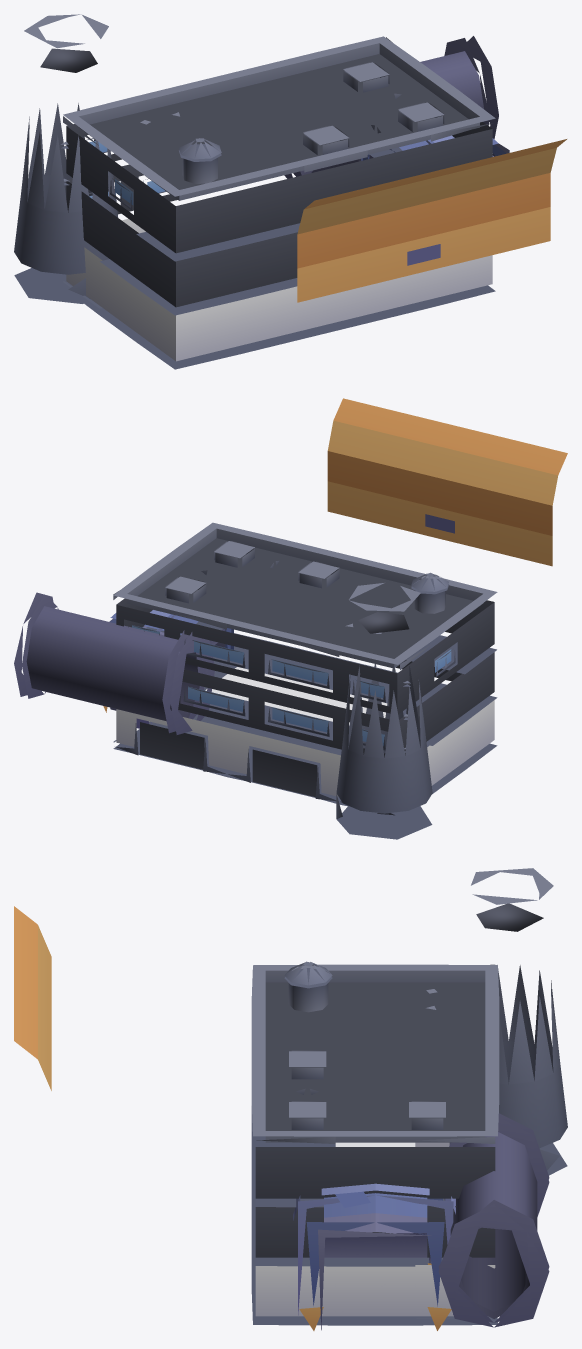
File: SU_HeavyFactory_LOD2.glb
The picture shows the model from 3 angles, top to bottom: view 1: azimuth 30°, elevation 25°; view 2: azimuth 150°, elevation 25°; view 3: azimuth 270°, elevation 25°; orthographic projection. The views are drawn at different scales.
Parts seen in each view (by area): view 1: building-a, door-wide-open, chimney-large, pipe-large-long, machine-fortified; view 2: building-a, door-wide-open, pipe-large-long, chimney-large, machine-fortified; view 3: building-a, pipe-large-long, machine-fortified, chimney-large, door-wide-open.
Part boxes in pixels (x1,y1,x2,y2): building-a: (61, 36, 495, 369); door-wide-open: (297, 139, 566, 302); chimney-large: (14, 14, 118, 303); pipe-large-long: (284, 36, 498, 178); machine-fortified: (358, 135, 509, 161); building-a: (113, 522, 497, 815); door-wide-open: (327, 398, 567, 566); pipe-large-long: (14, 592, 214, 734); chimney-large: (336, 583, 432, 839); machine-fortified: (103, 610, 233, 728); building-a: (251, 961, 499, 1325); pipe-large-long: (438, 1113, 549, 1327); machine-fortified: (293, 1183, 455, 1330); chimney-large: (449, 868, 567, 1175); door-wide-open: (14, 906, 51, 1090).
Size of what is drawn, in the model's own units: 7.6 by 4.08 by 7.49.
5 materials, 5 textured.
